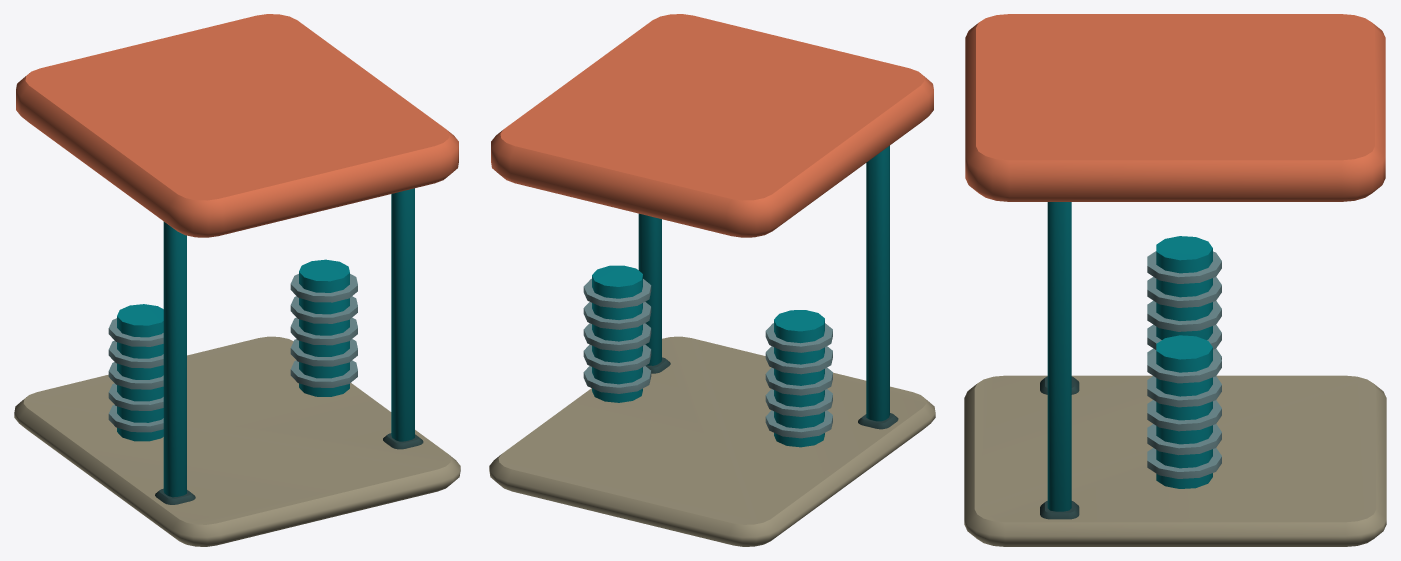
Rendered from ocean_wash_2.glb.
3 renders of one model, left to right at view 1: azimuth 30°, elevation 25°; view 2: azimuth 150°, elevation 25°; view 3: azimuth 270°, elevation 25°, orthographic. The views are drawn at different scales.
Parts seen in each view (by area): view 1: Wash2; view 2: Wash2; view 3: Wash2.
Part boxes in pixels (left/top/right/bottom): Wash2: left=14, top=14, right=460, bottom=546; Wash2: left=489, top=14, right=935, bottom=546; Wash2: left=964, top=14, right=1386, bottom=546.
Size of the model in its own units: 2.16 by 2.51 by 2.48.
